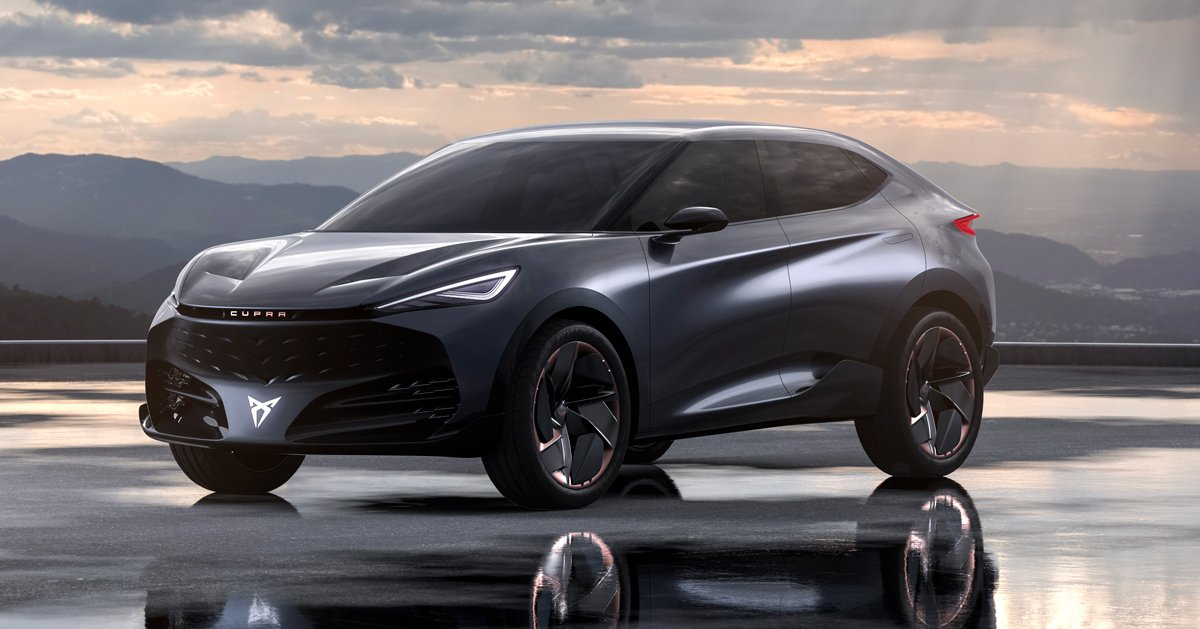car: (140, 120, 999, 511)
